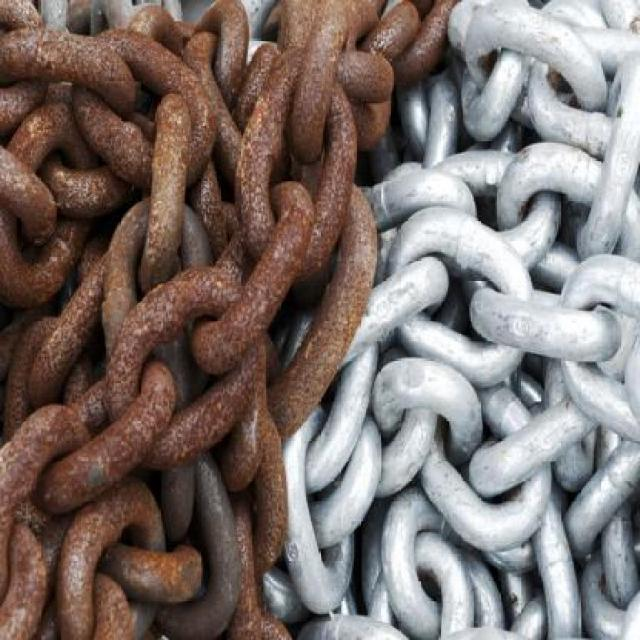corrosion: (2, 1, 454, 640)
